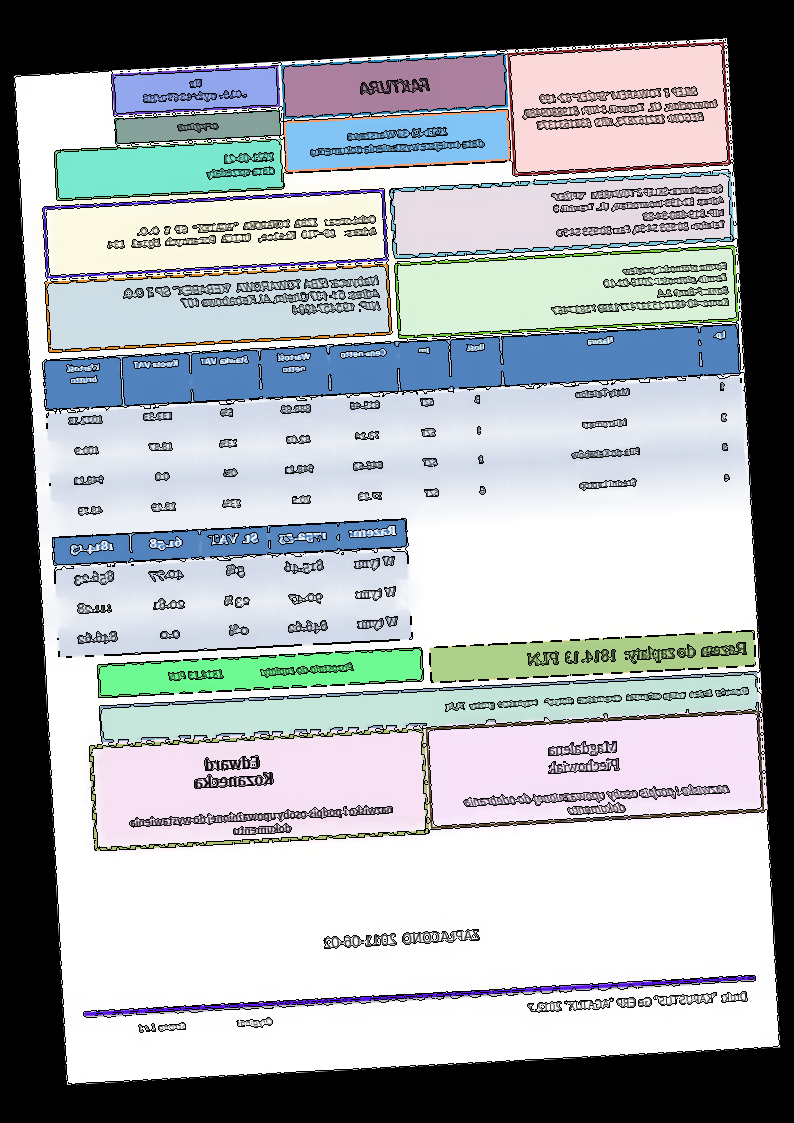Table: (41, 321, 751, 534), (50, 519, 415, 661)
TextBox: (117, 269, 386, 328), (125, 798, 398, 846), (103, 210, 380, 256), (460, 779, 734, 823), (440, 678, 755, 716), (547, 257, 733, 321), (518, 82, 723, 136), (550, 180, 729, 241), (527, 635, 753, 671), (524, 986, 754, 1020), (307, 119, 488, 159), (316, 921, 485, 957), (163, 656, 357, 687), (190, 747, 277, 795), (138, 73, 251, 109), (135, 1011, 277, 1036), (544, 736, 624, 779), (203, 146, 280, 185), (358, 73, 434, 99), (174, 119, 221, 137)
